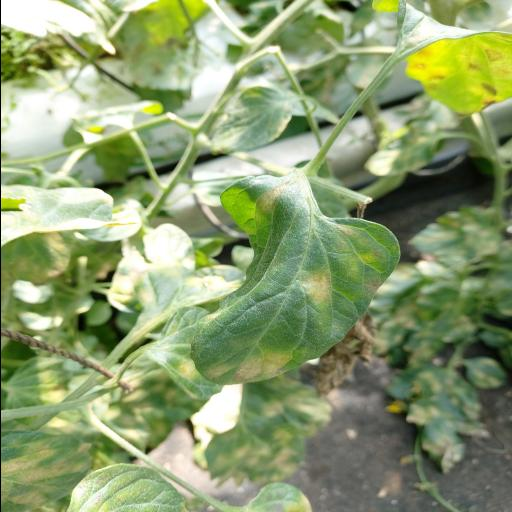Leaf Mold: (186, 177, 398, 385)
